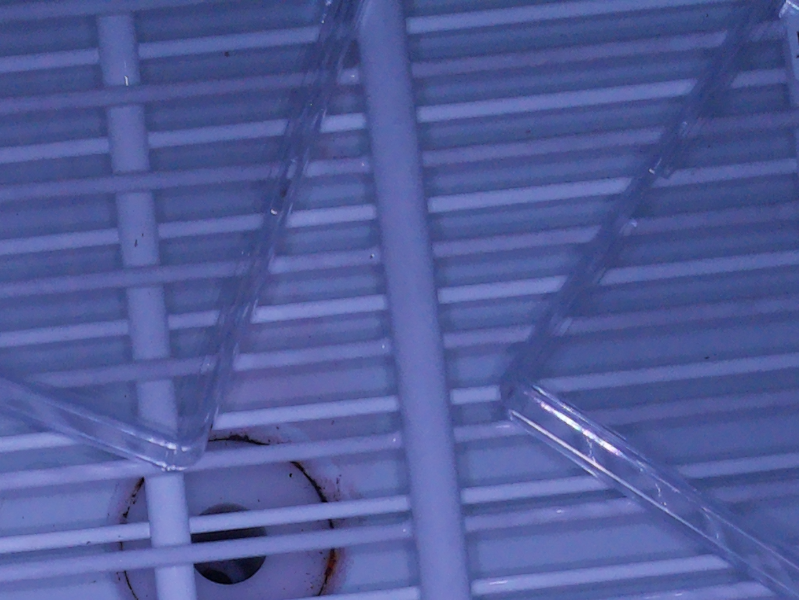plate: (499, 1, 799, 600), (1, 1, 361, 476)
